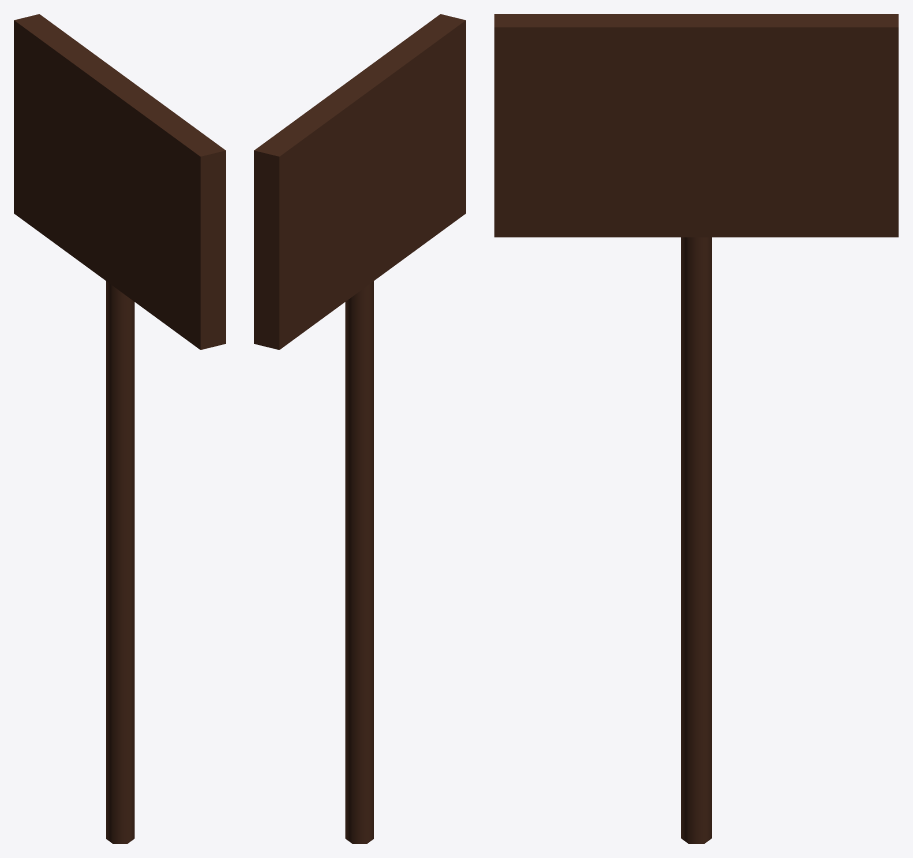
Rendered from Sign2Model.fbx.
3 views of the same model, side by side, from view 1: azimuth 30°, elevation 25°; view 2: azimuth 150°, elevation 25°; view 3: azimuth 270°, elevation 25° (orthographic). The views are drawn at different scales.
Visible parts, largest first — view 1: PlacaPare; view 2: PlacaPare; view 3: PlacaPare.
Part boxes in pixels (bbox=[...]): PlacaPare: bbox=[14, 14, 225, 843]; PlacaPare: bbox=[254, 14, 465, 843]; PlacaPare: bbox=[494, 14, 898, 843].
Size of the model in its own units: 13.46 by 381 by 171.
